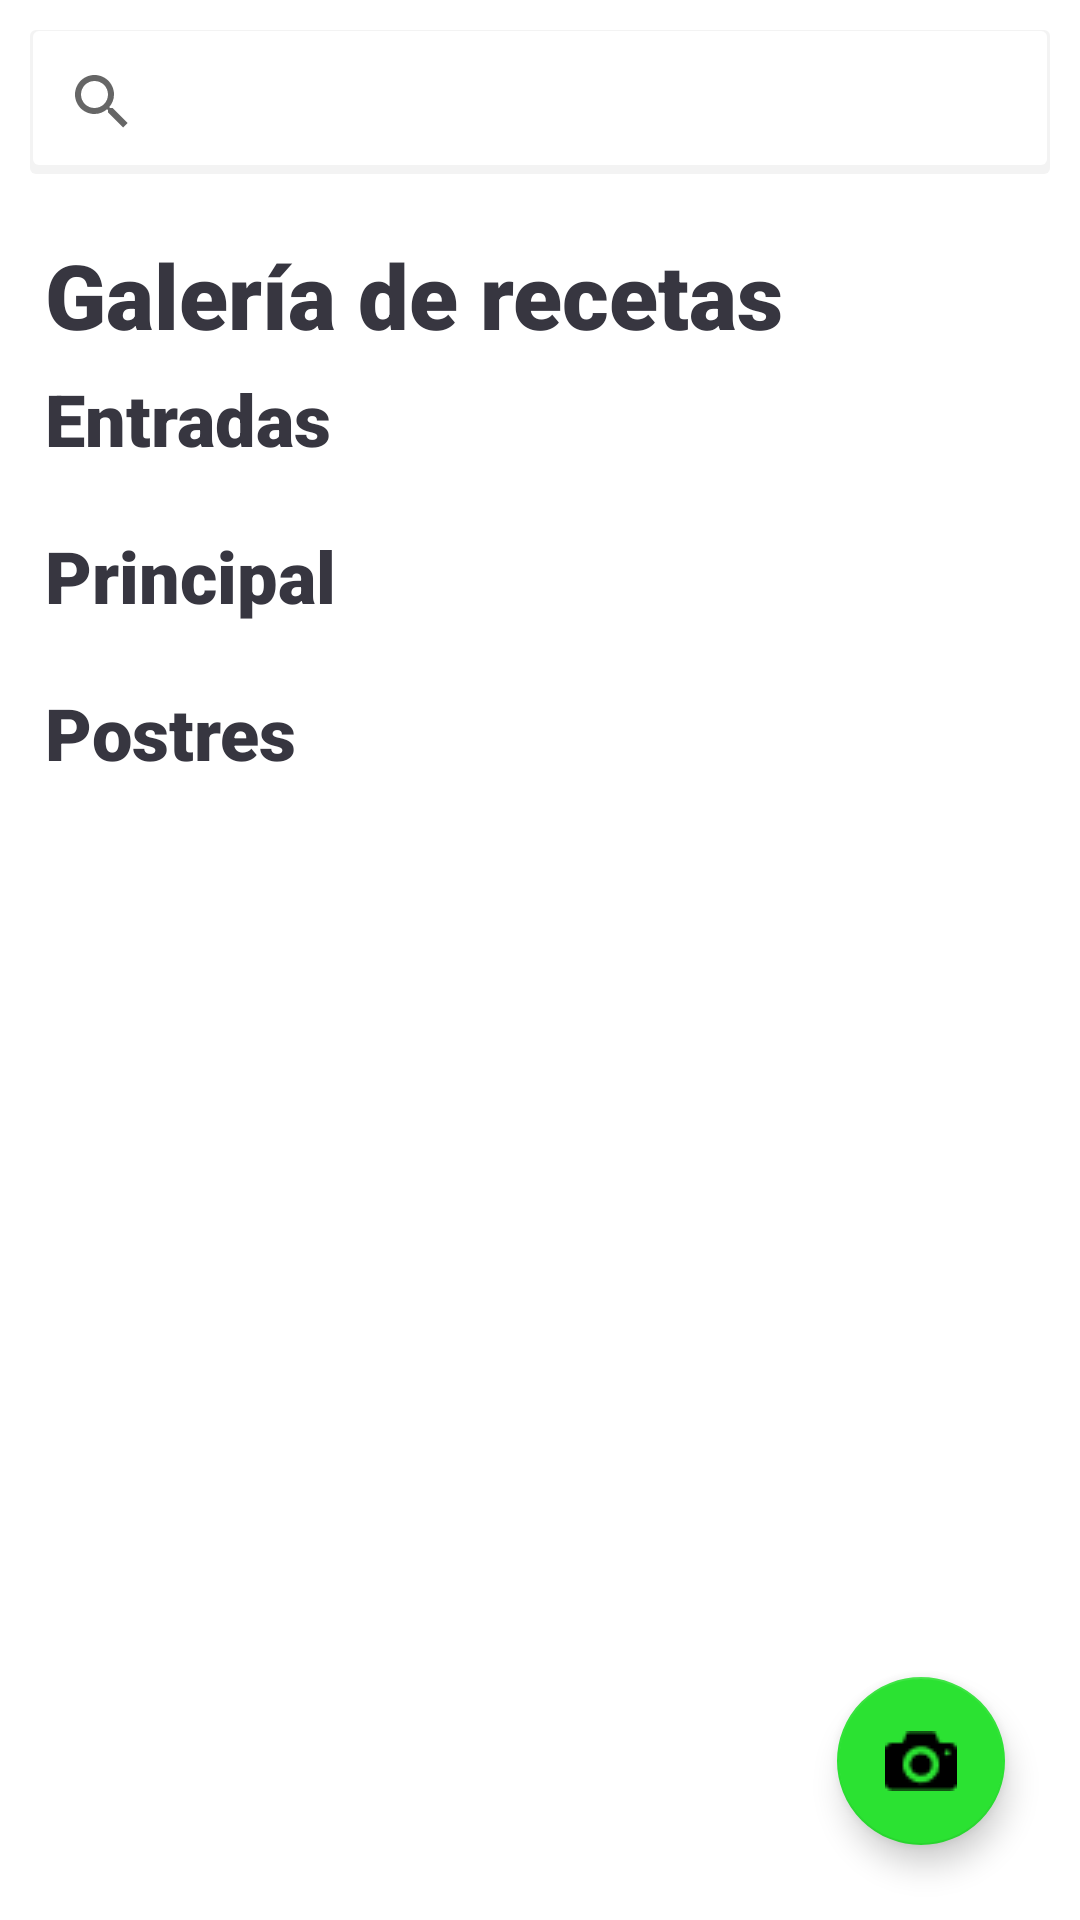

Icon bounding boxes for this 1080 x 1920 phone screenshot, format (x1, y1, x2, y2):
camera: (837, 1677, 1005, 1845)
